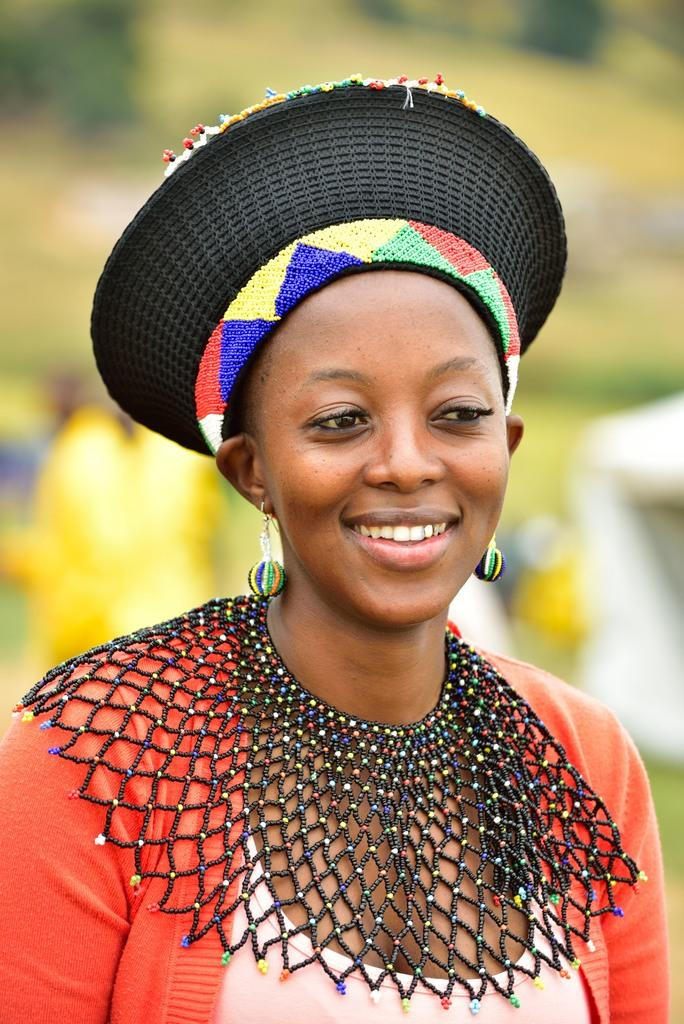Hat: (86, 70, 572, 460)
